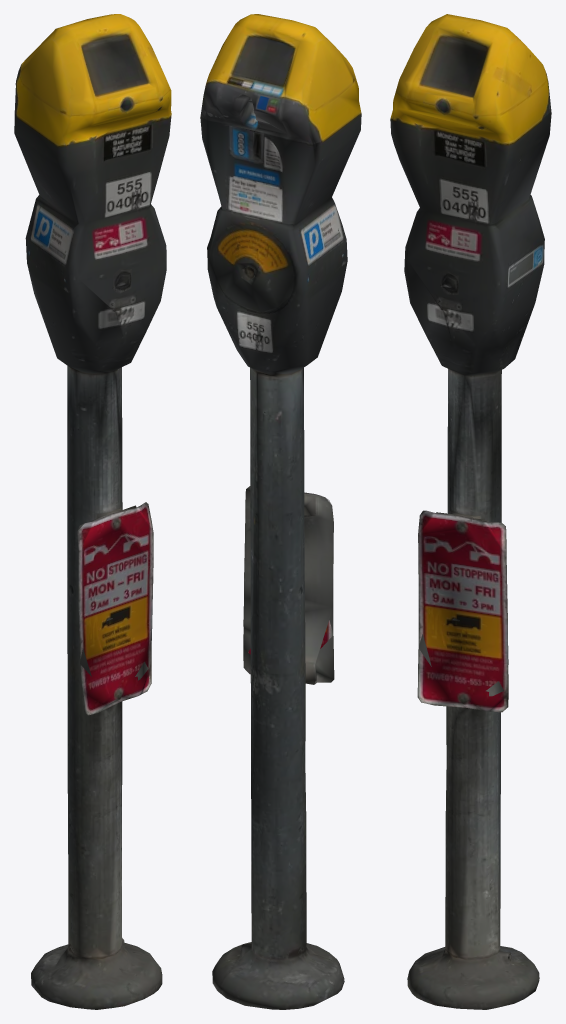
The model's file is meter.glb.
3 renders of one model, left to right at view 1: azimuth 30°, elevation 25°; view 2: azimuth 150°, elevation 25°; view 3: azimuth 330°, elevation 25°, orthographic.
Parts seen in each view (by area): view 1: Aset_other_various_M_ujyvbgofa_LOD0; view 2: Aset_other_various_M_ujyvbgofa_LOD0; view 3: Aset_other_various_M_ujyvbgofa_LOD0.
Part boxes in pixels (box(x1,y1,x2,y2)): Aset_other_various_M_ujyvbgofa_LOD0: box(14, 14, 171, 1009); Aset_other_various_M_ujyvbgofa_LOD0: box(200, 14, 361, 1009); Aset_other_various_M_ujyvbgofa_LOD0: box(390, 14, 551, 1009).
Size of the model in its own units: 0.1952 by 1.5 by 0.1908.
Materials: 1 (1 with a texture image).
